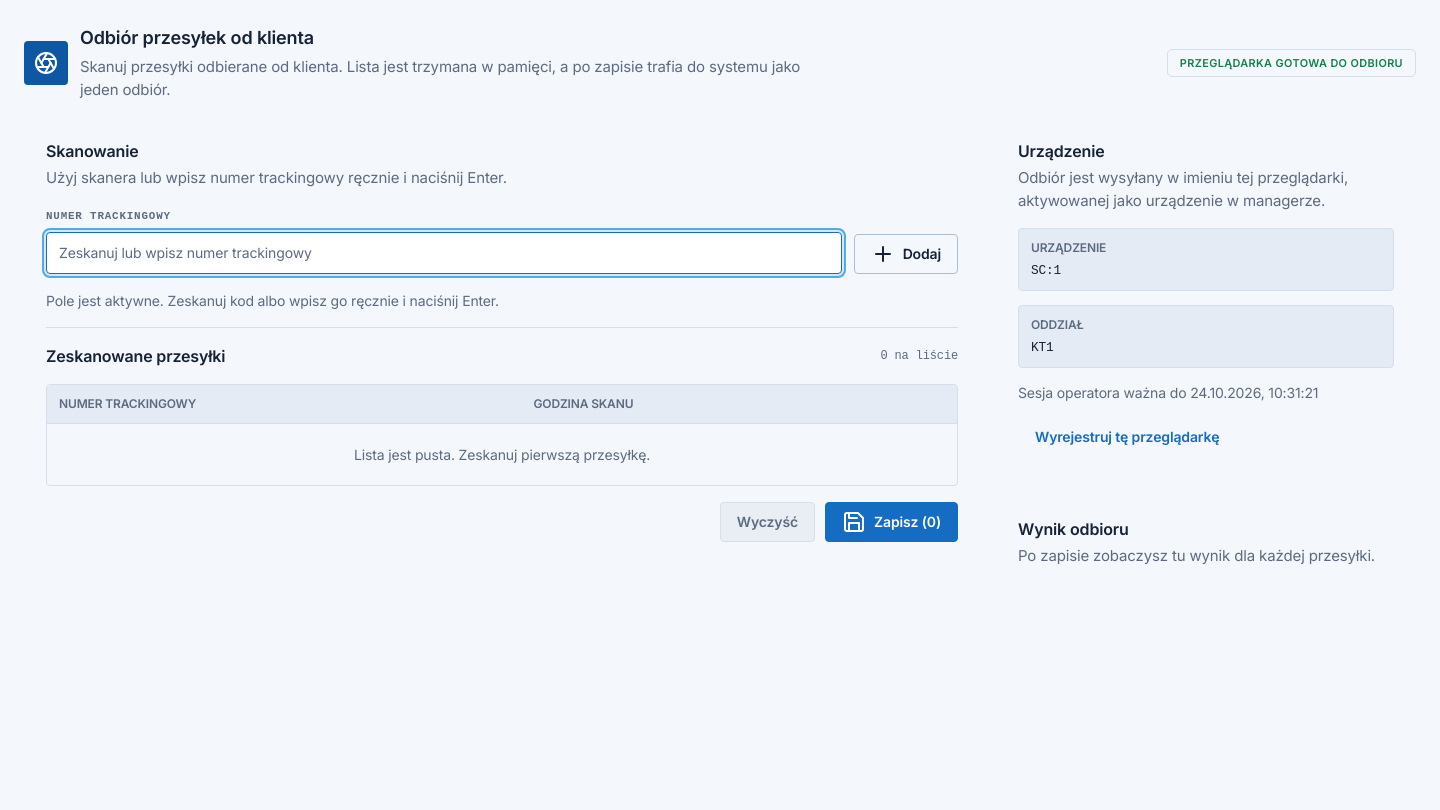
Scenario: ShipmentScanner › sends all scanned shipments on behalf of the activated browser
Expected: the text "Przeglądarka gotowa do odbioru" is shown, x1=1180 y1=52 x2=1403 y2=72
Type "TRK-001" into the field labelled "Numer trackingowy". click: (444, 252)
box: x1=46 y1=232 x2=842 y2=274
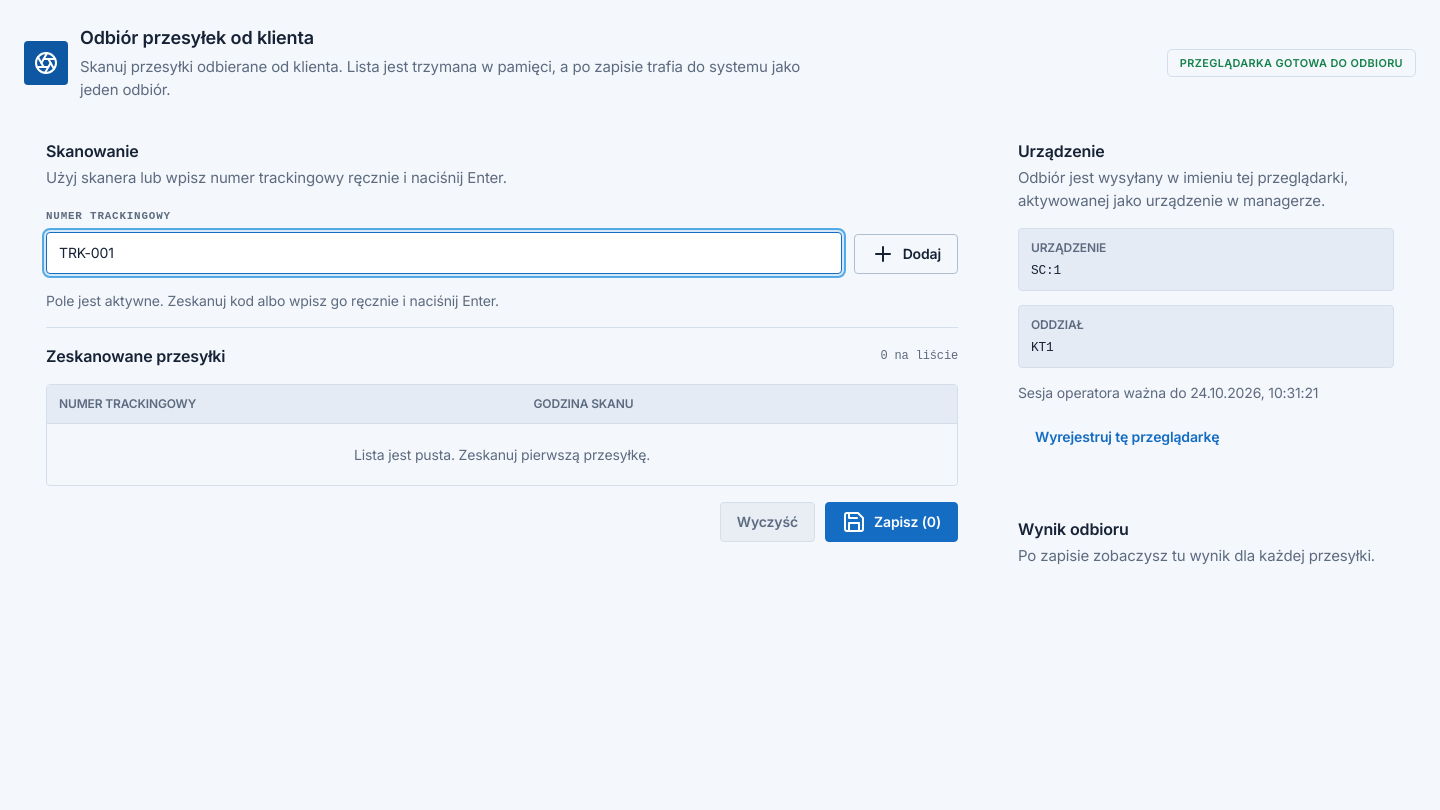
Click the button "Dodaj". click: (906, 254)
box: x1=854 y1=234 x2=958 y2=274
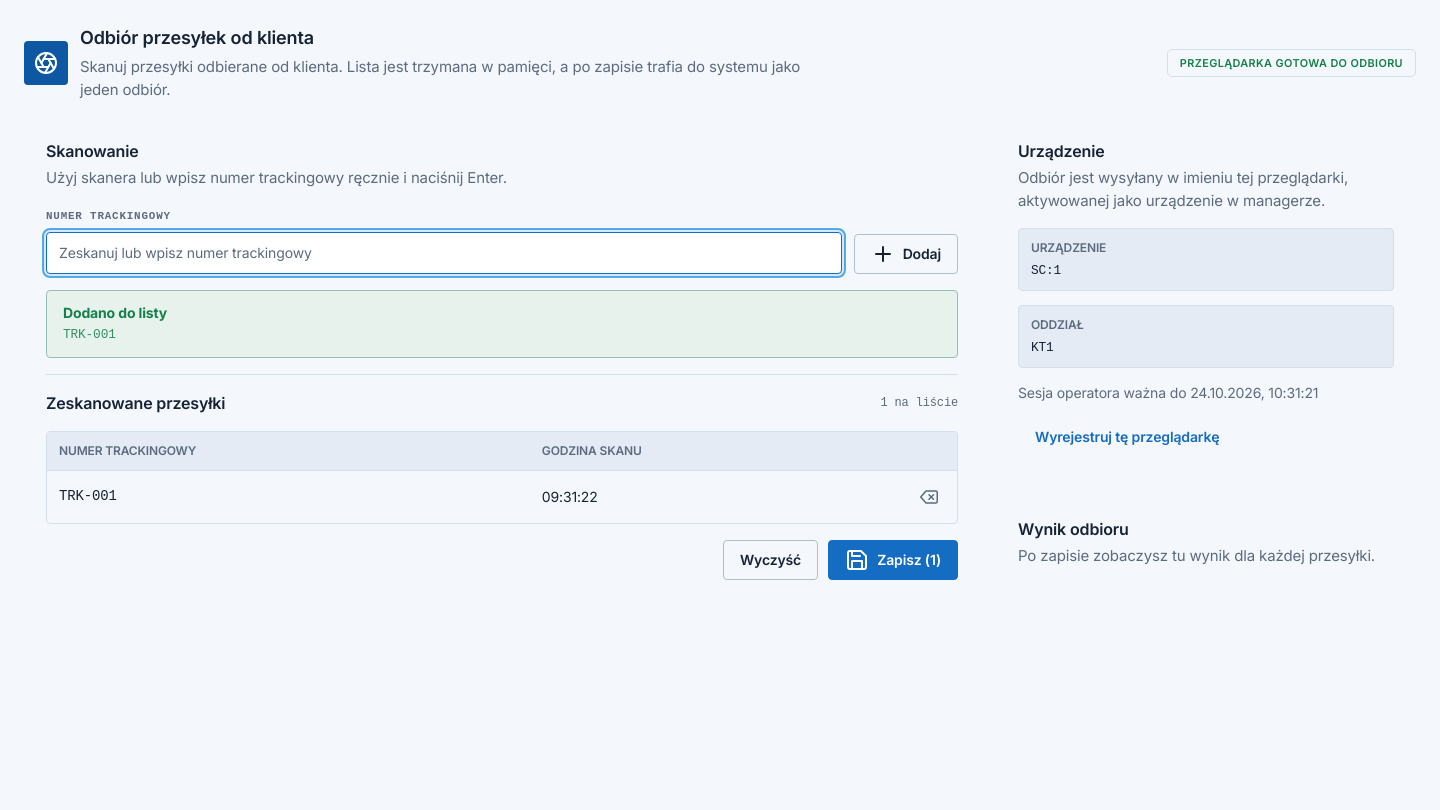
Type "TRK-002" into the field labelled "Numer trackingowy". click: (444, 252)
box: x1=46 y1=232 x2=842 y2=274
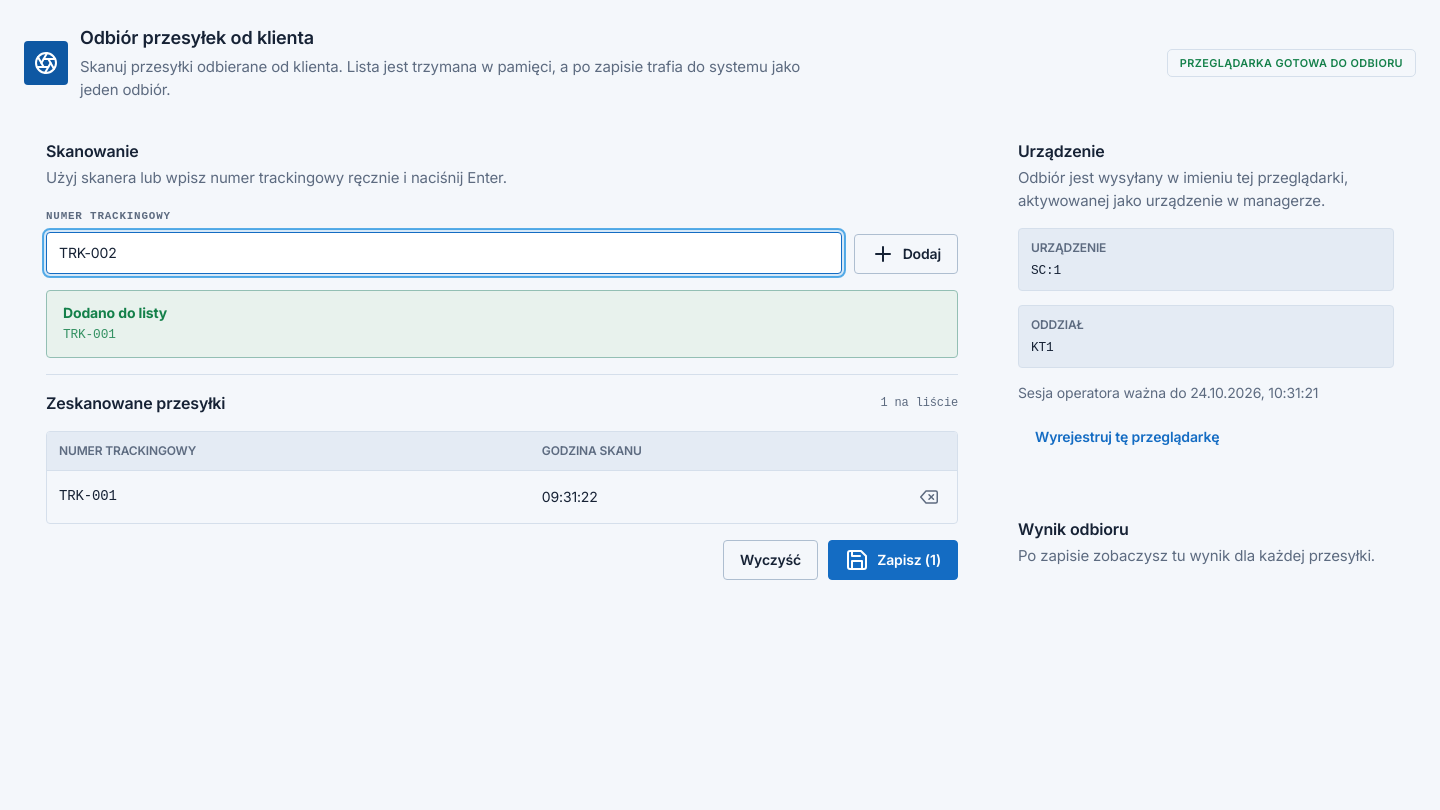
Click the button "Dodaj". click: (906, 254)
box: x1=854 y1=234 x2=958 y2=274
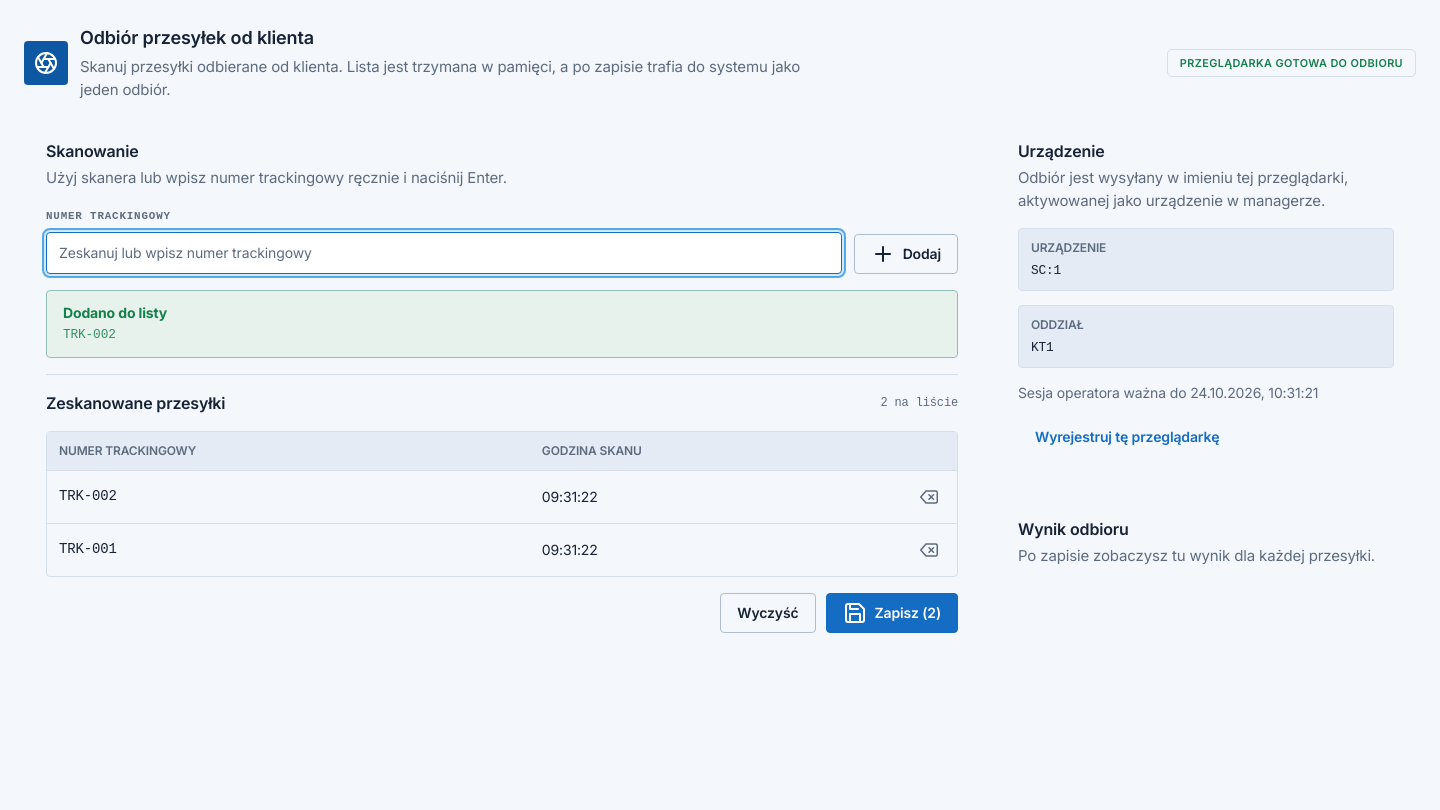
Click the button "Zapisz (2)". click: (892, 612)
box: x1=826 y1=592 x2=958 y2=632
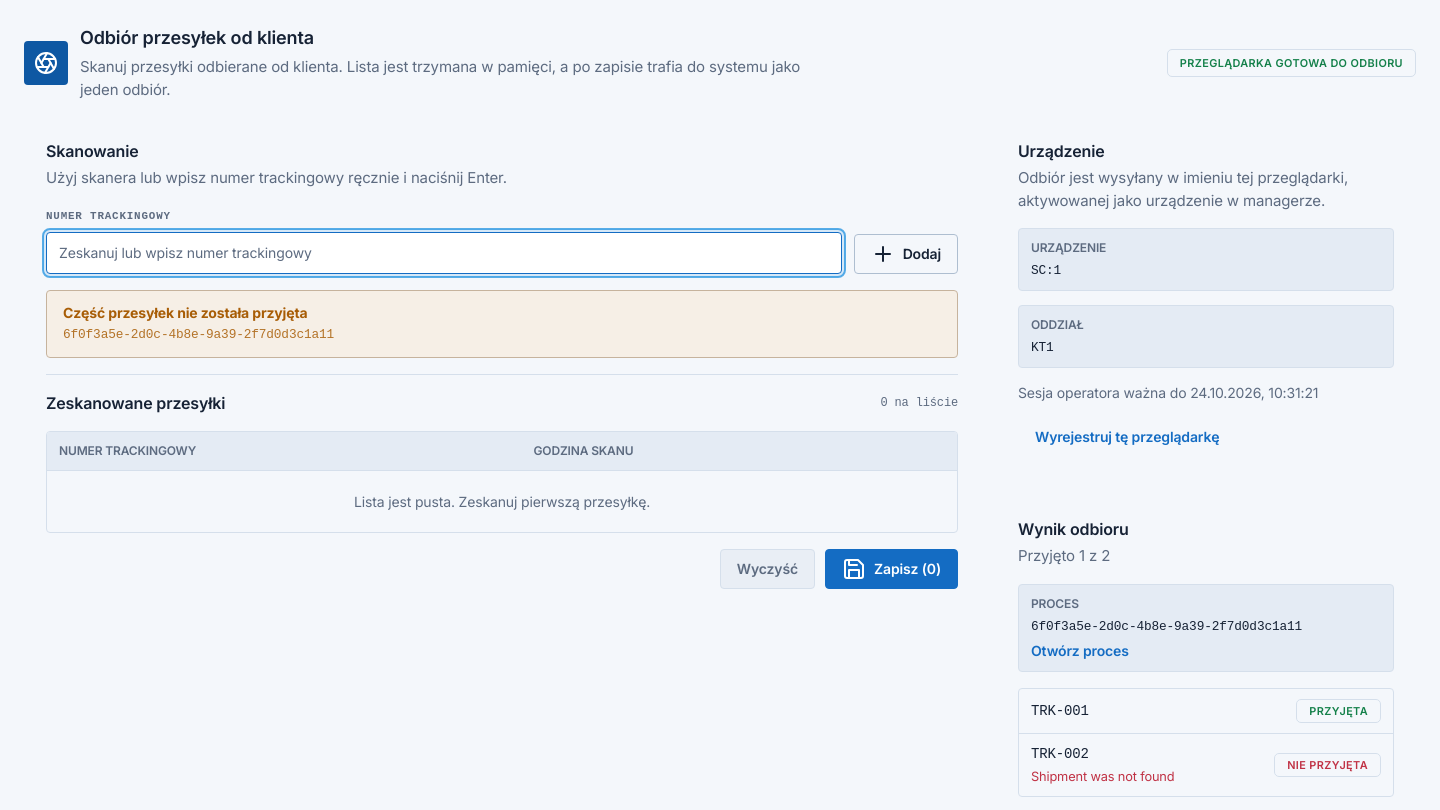
Expected: the text "Część przesyłek nie została przyjęta" is shown, x1=63 y1=304 x2=308 y2=320
Expected: the text "Shipment was not found" is shown, x1=1031 y1=767 x2=1174 y2=786
Expected: the text "Lista jest pusta. Zeskanuj pierwszą przesyłkę." is shown, x1=47 y1=470 x2=957 y2=532
